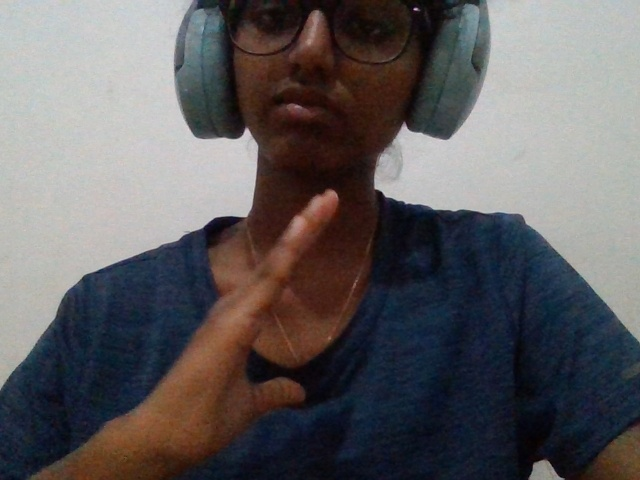Fine: (77, 177, 393, 480)
